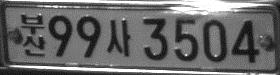0: (202, 19, 226, 62)
3: (143, 17, 167, 60)
4: (230, 20, 260, 62)
5: (173, 17, 199, 61)
9: (47, 14, 72, 57), (76, 15, 101, 58)
부산_V: (20, 12, 45, 57)
사: (106, 19, 131, 57)
